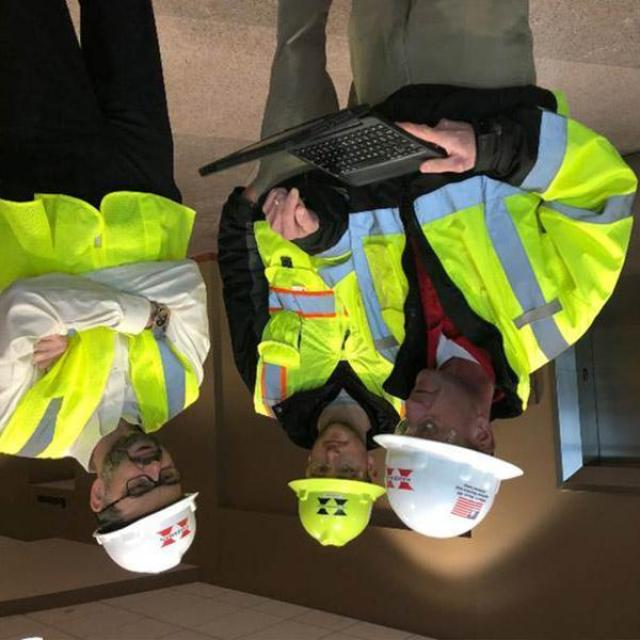helmet: (368, 418, 535, 548), (83, 491, 231, 583), (288, 470, 386, 550)
jacket: (310, 101, 640, 398), (0, 186, 212, 472)
